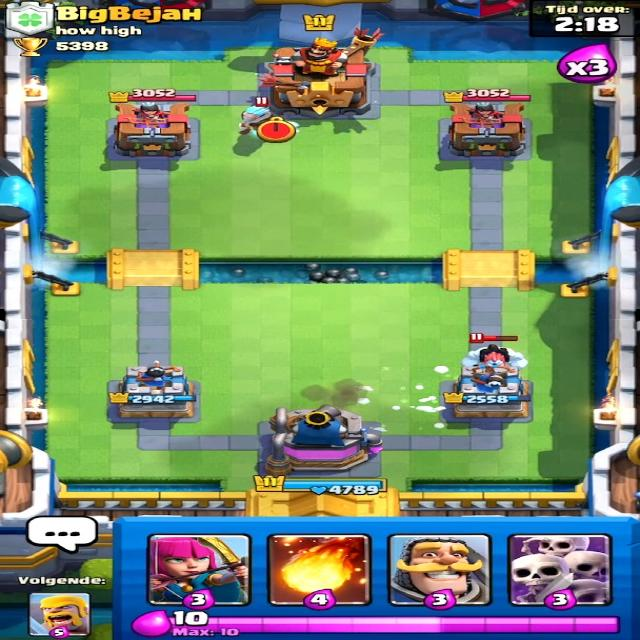Enemy_Ice_Golem_Troop: (459, 340, 527, 363)
Fireball_Card: (268, 534, 370, 610)
